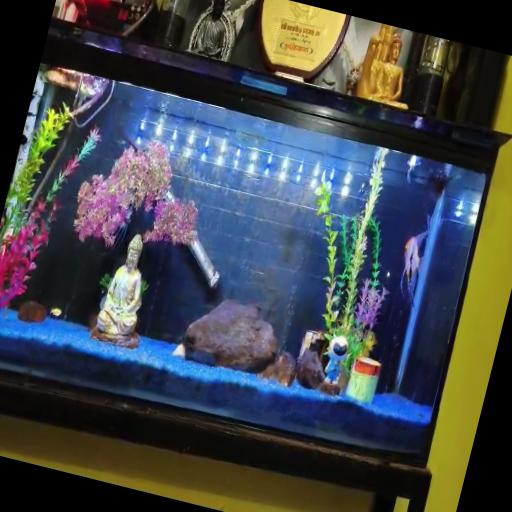Fish: (399, 220, 428, 307), (406, 155, 420, 183), (49, 308, 60, 317)
